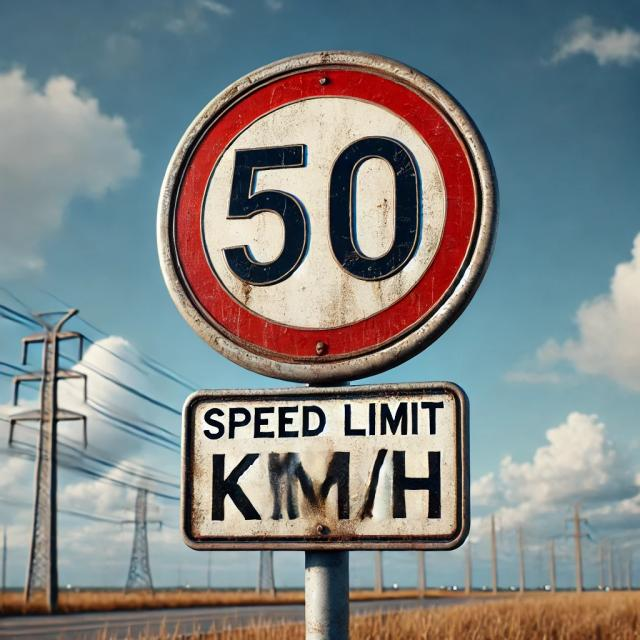Speed limit 50: (156, 49, 502, 384)
